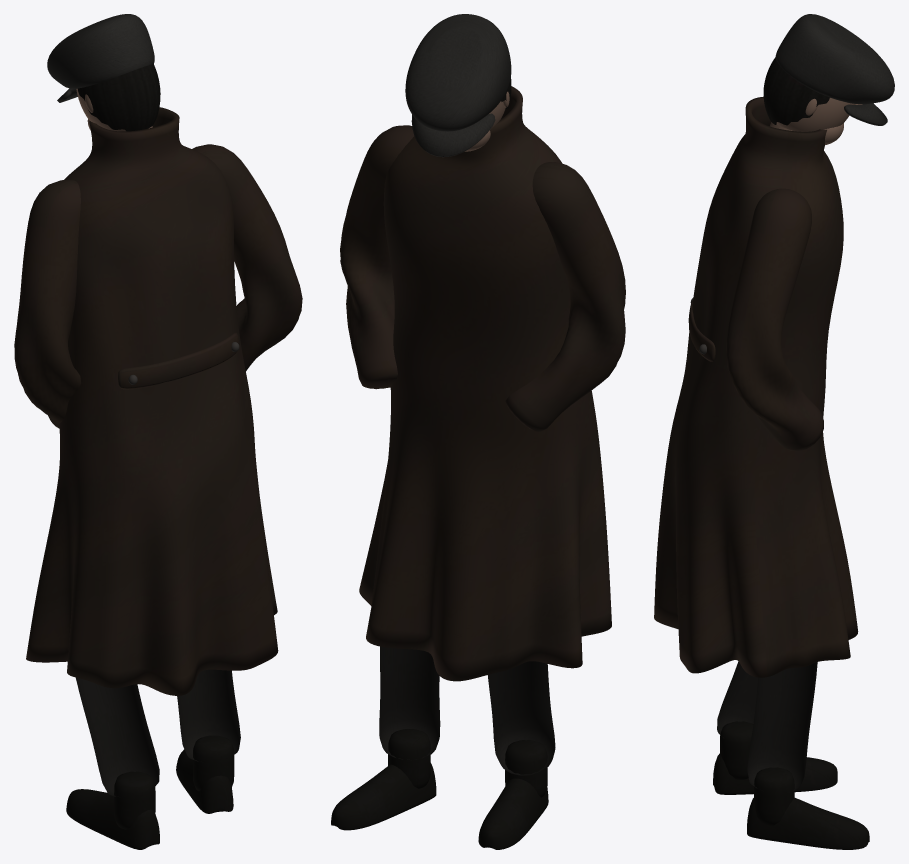
File: worker-hands-in-pockets.glb
The picture shows the model from 3 angles, left to right: view 1: azimuth 30°, elevation 25°; view 2: azimuth 150°, elevation 25°; view 3: azimuth 270°, elevation 25°; orthographic projection. The views are drawn at different scales.
Visible parts, largest first — view 1: worker-hands-in-pockets-body; view 2: worker-hands-in-pockets-body; view 3: worker-hands-in-pockets-body.
Part boxes in pixels (x1,y1,x2,y2): worker-hands-in-pockets-body: (14, 14, 302, 849); worker-hands-in-pockets-body: (331, 14, 625, 849); worker-hands-in-pockets-body: (654, 14, 894, 849).
Bounding box in the file's own units: 0.6357 × 1.76 × 0.4939.
7 materials, 5 textured.
